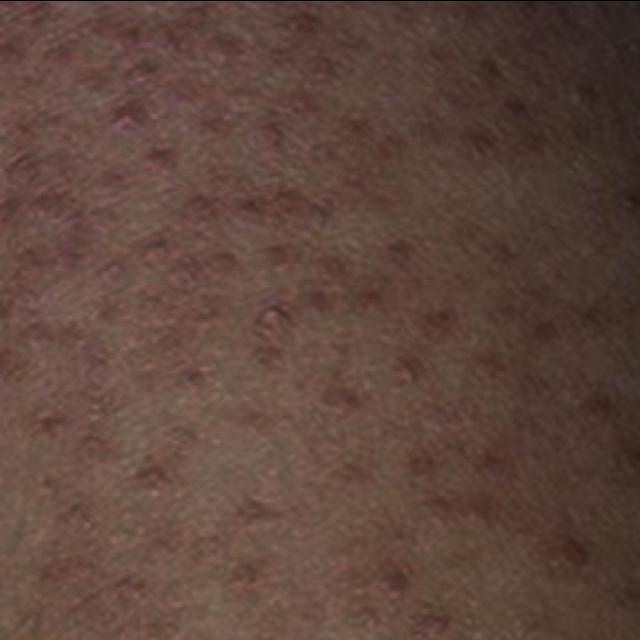keratosis pilaris: (9, 0, 640, 583)
